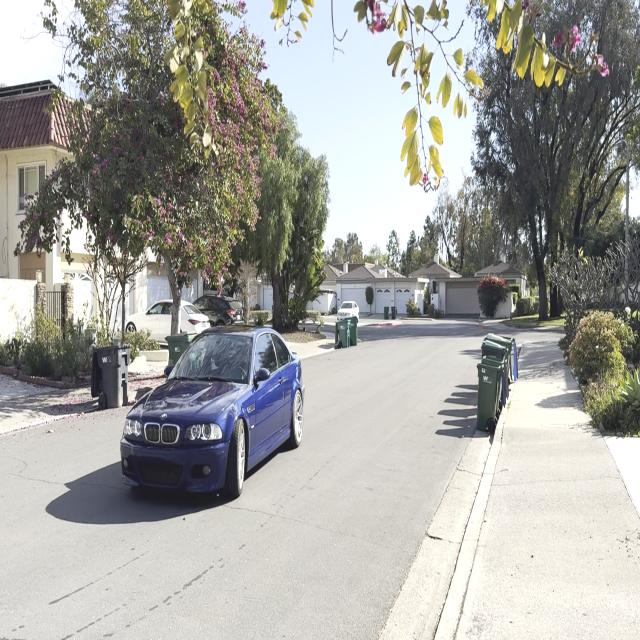Carbeetle: (118, 313, 307, 522)
